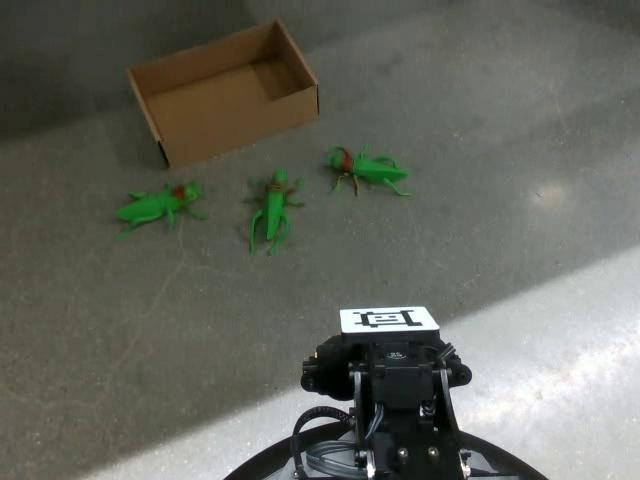box: (126, 16, 320, 170)
grasshopper: (243, 167, 305, 256), (113, 178, 208, 234), (323, 143, 411, 197)
